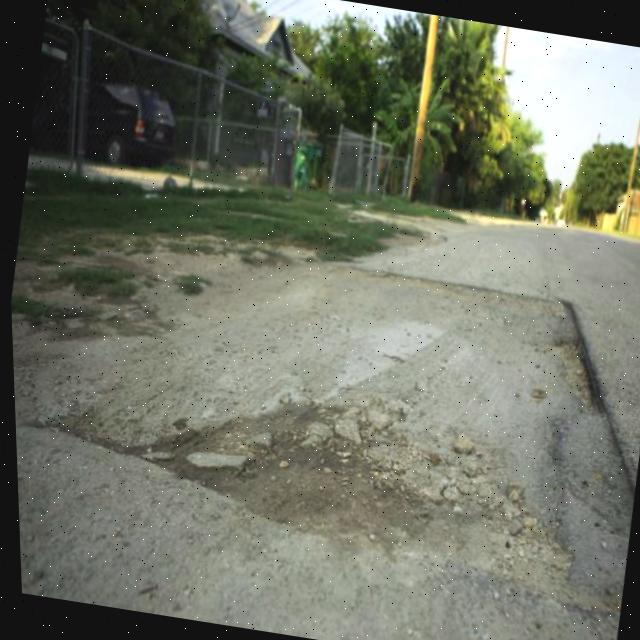Pothole: (6, 192, 640, 640), (95, 316, 582, 621)
